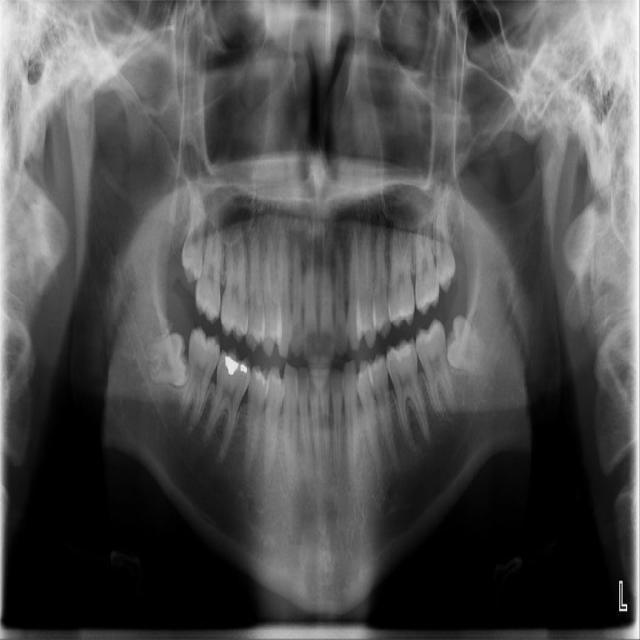3M ESPE Implant: (180, 179, 207, 285)
52: (206, 342, 261, 399), (383, 336, 423, 390), (245, 364, 272, 406)
73: (596, 564, 612, 587)
BioHorizons Implant: (413, 191, 440, 315)
BioLife Implant: (432, 190, 457, 293)
Biomet 3i Implant: (440, 314, 497, 376)
Blue Sky Bio Implant: (411, 317, 461, 424)
Caries: (194, 196, 222, 325)
Implant: (175, 325, 224, 436)
Keystone Dental Implant: (141, 332, 195, 393)
